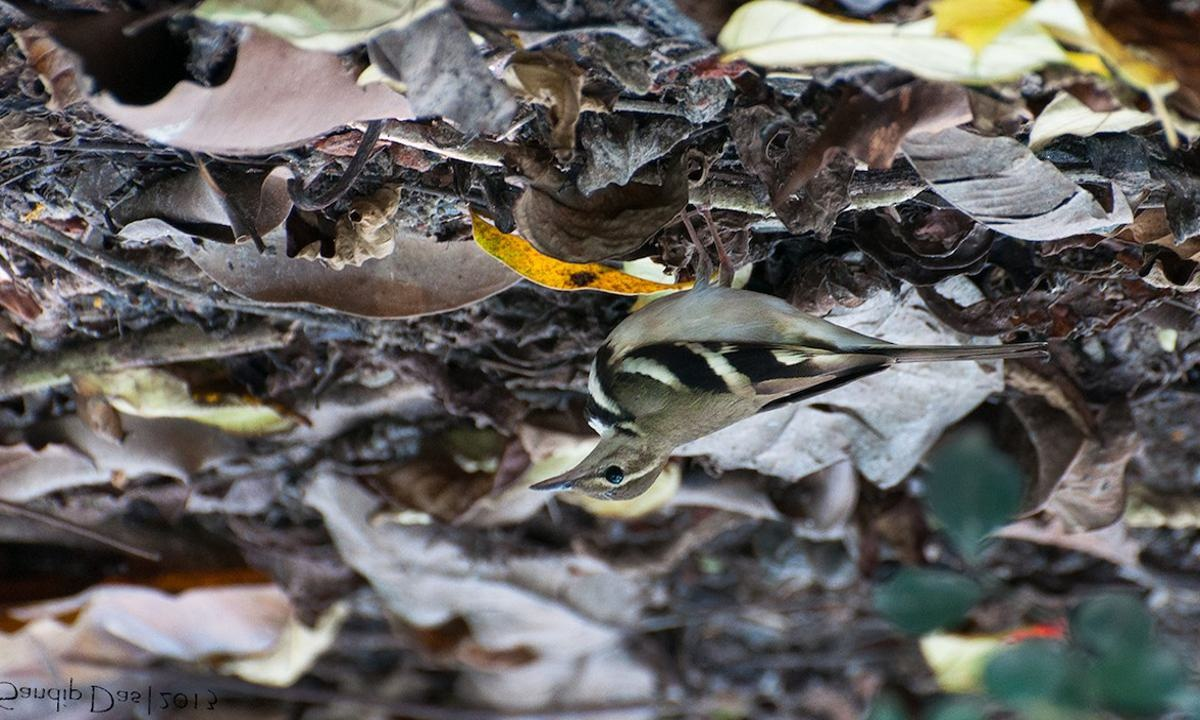wagtail: (531, 218, 1056, 516)
